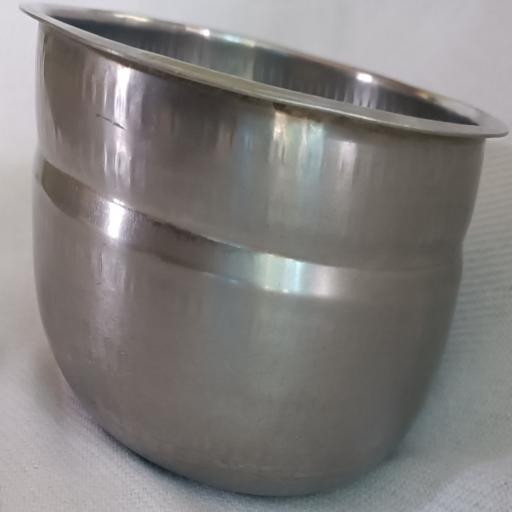vessel: (22, 5, 507, 494)
